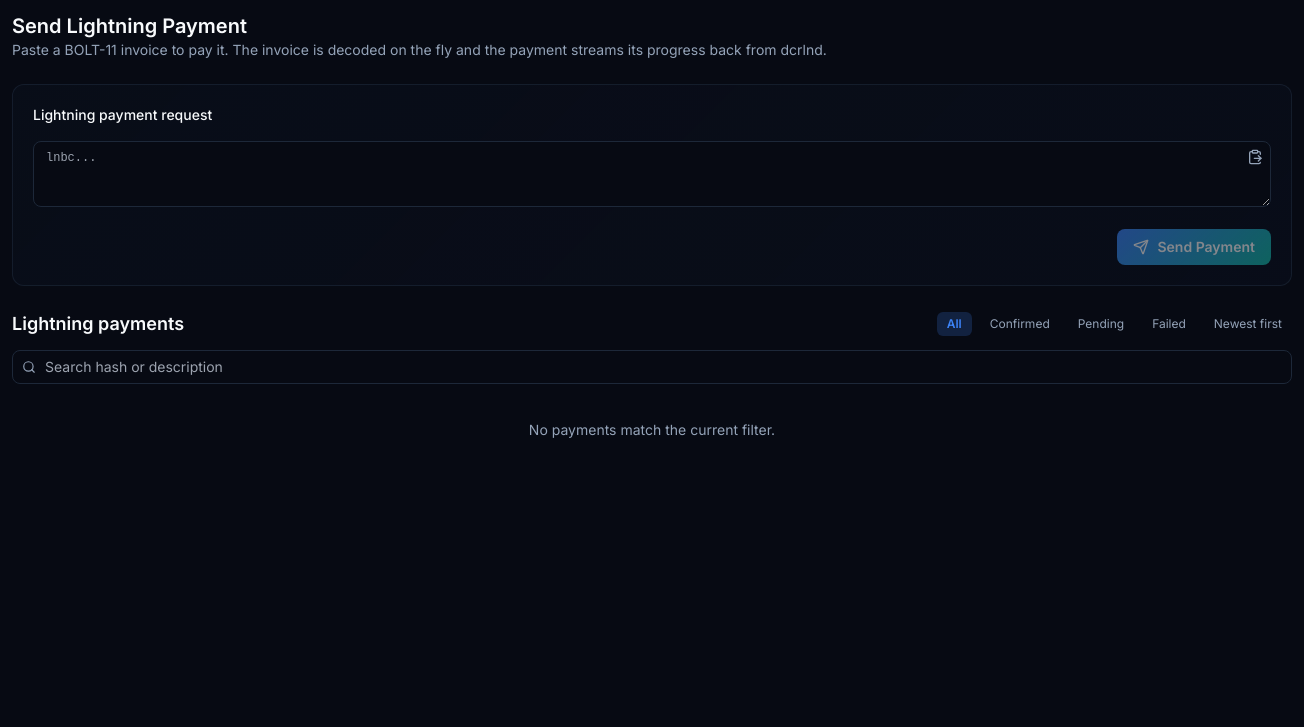
Scenario: SendTab › starts a new invoice without an amount
Type "lnA" into the text box labelled "Lightning payment request" at (652, 174), box [33,141,1271,207]
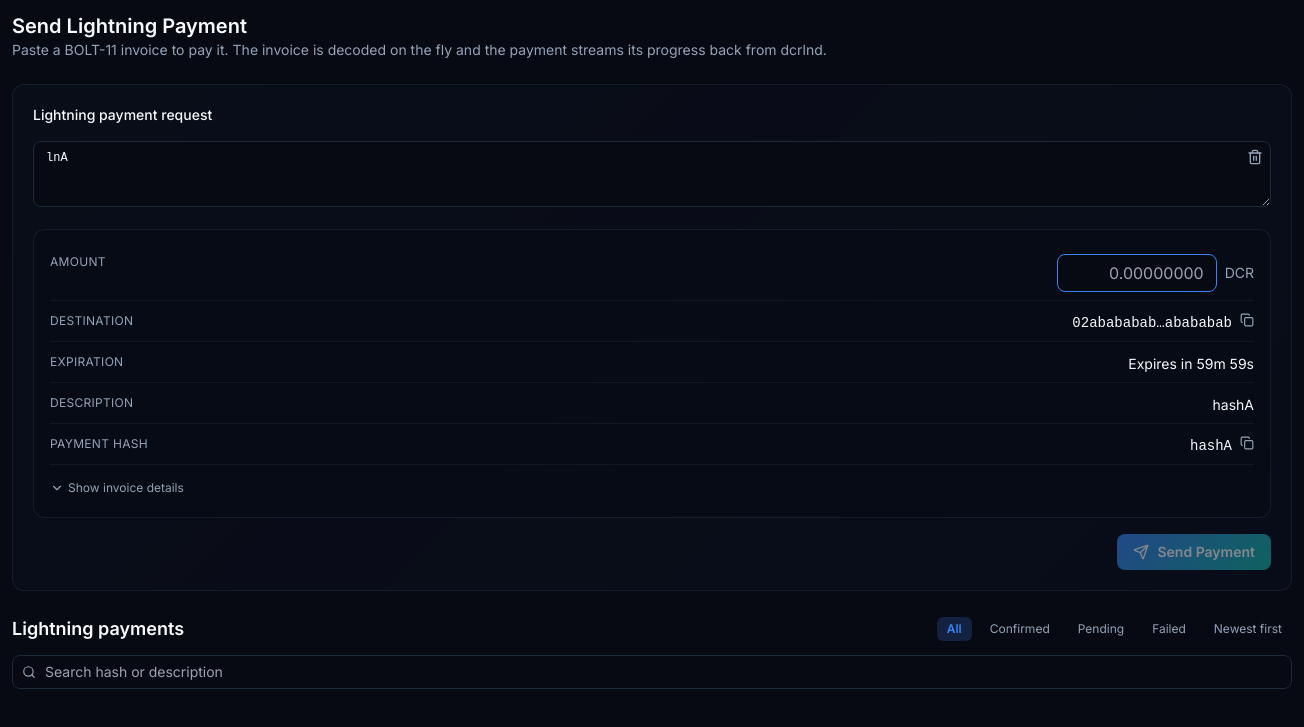
Type "5" into the field with placeholder "0.00000000" at (1137, 273), box [1057,254,1217,292]
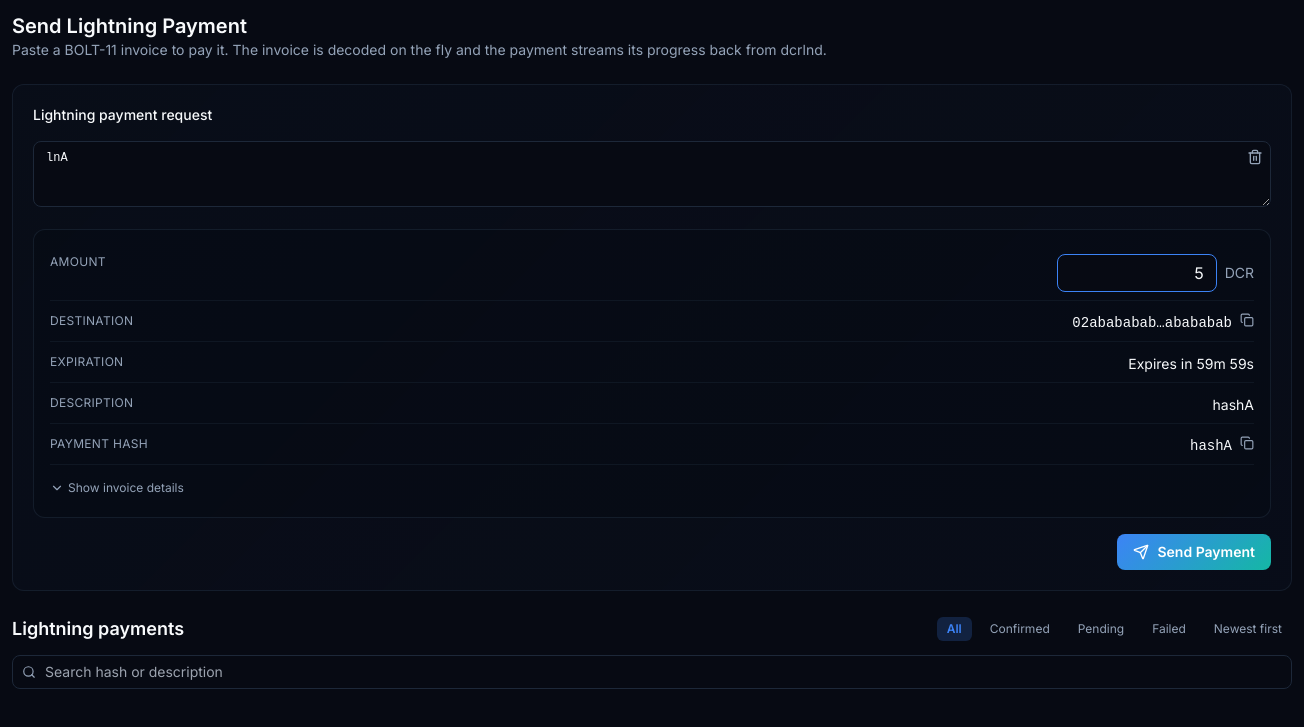
Expected: the button "Send Payment" is enabled, [1117,534,1271,570]
Replace the text in the text box labelled "Lightning payment request" with "lnB" at (652, 174), box [33,141,1271,207]
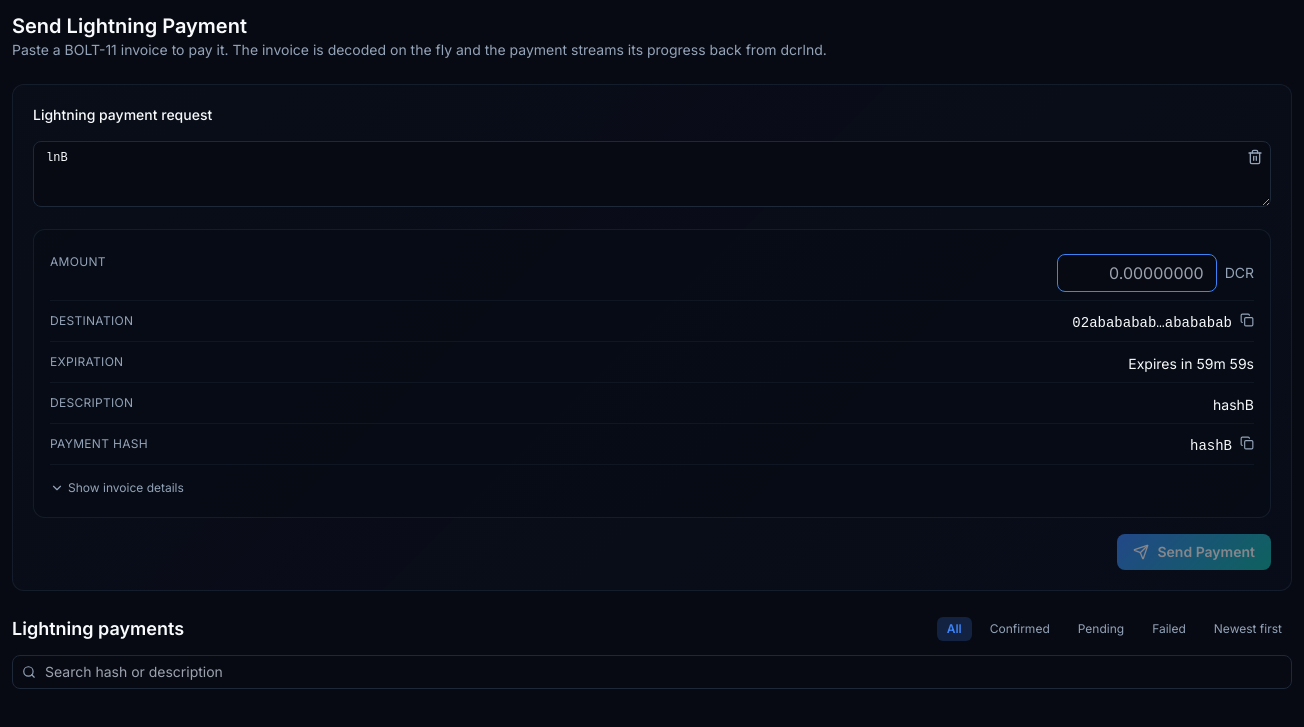
Expected: the field with placeholder "0.00000000" is empty, [1057,254,1217,292]
Expected: the button "Send Payment" is disabled, [1117,534,1271,570]
